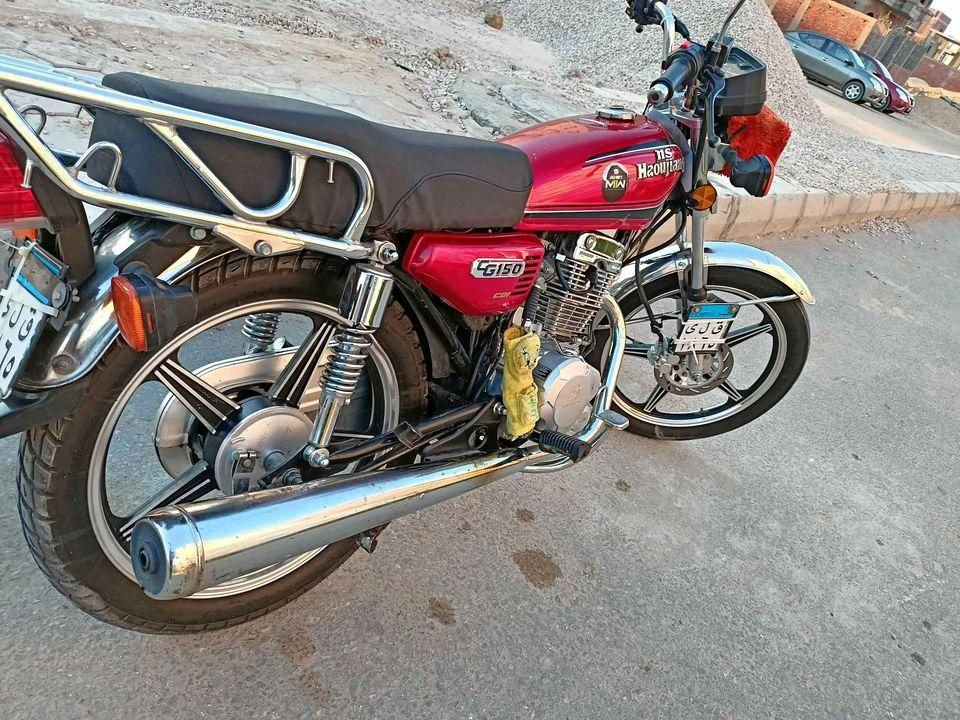License Plate: (682, 305, 740, 349)
